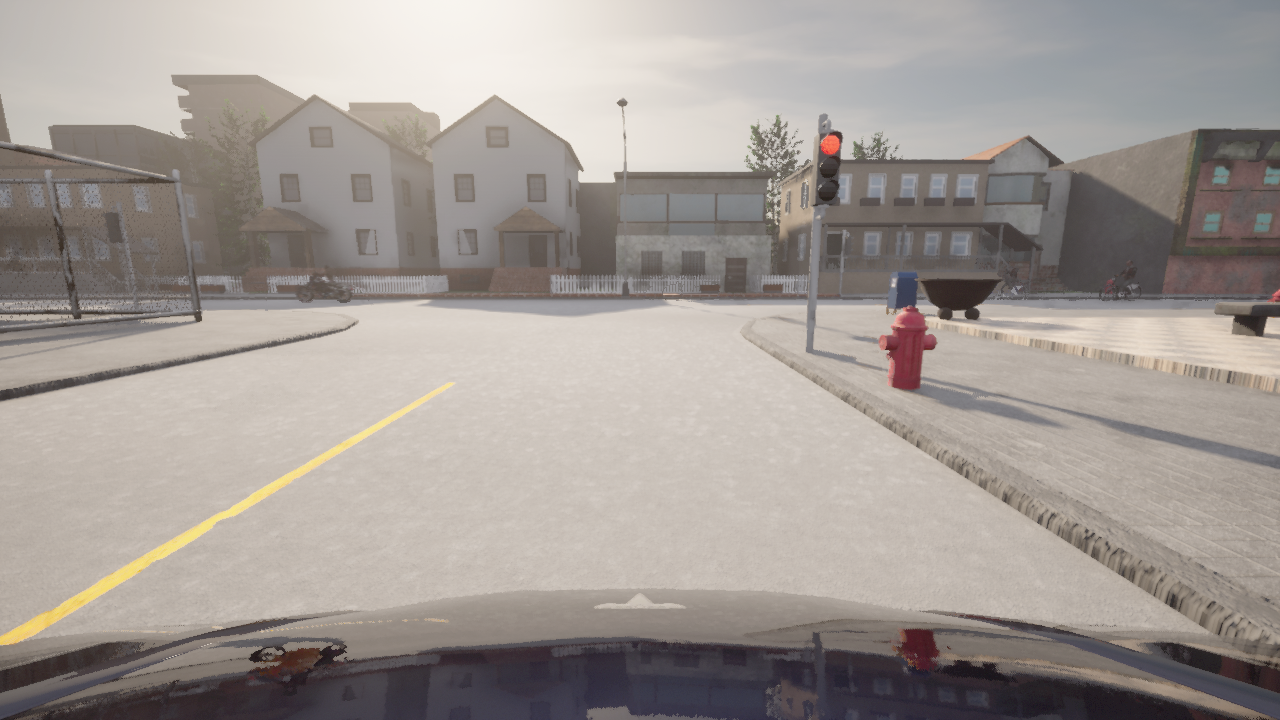cyclist: (0, 588, 1279, 719), (296, 275, 352, 301), (985, 275, 1027, 301), (1100, 275, 1141, 300)
